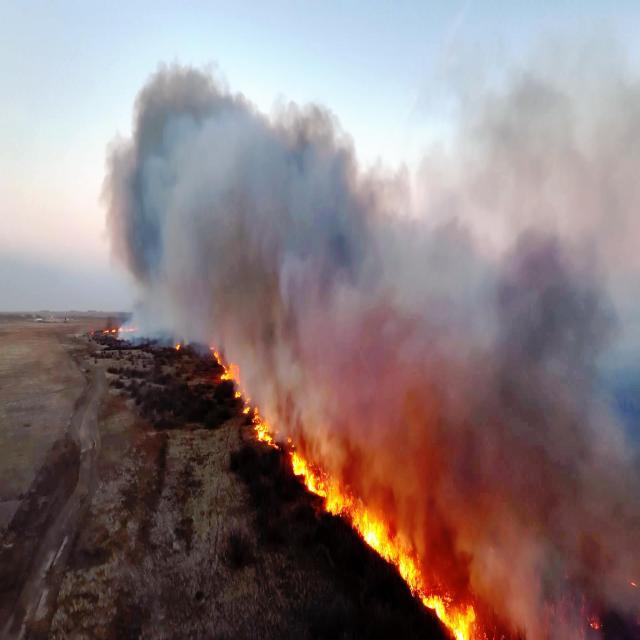Fire: (336, 494, 394, 554), (292, 434, 334, 504), (393, 556, 455, 603), (432, 594, 475, 640)
Smoke: (129, 80, 428, 340), (505, 29, 640, 592), (276, 225, 572, 430)
